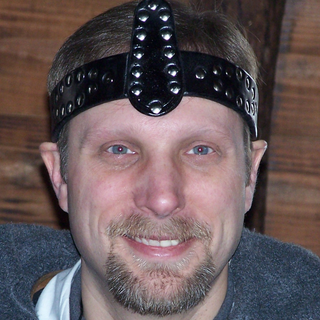eye: (99, 139, 141, 164), (179, 139, 221, 161)
